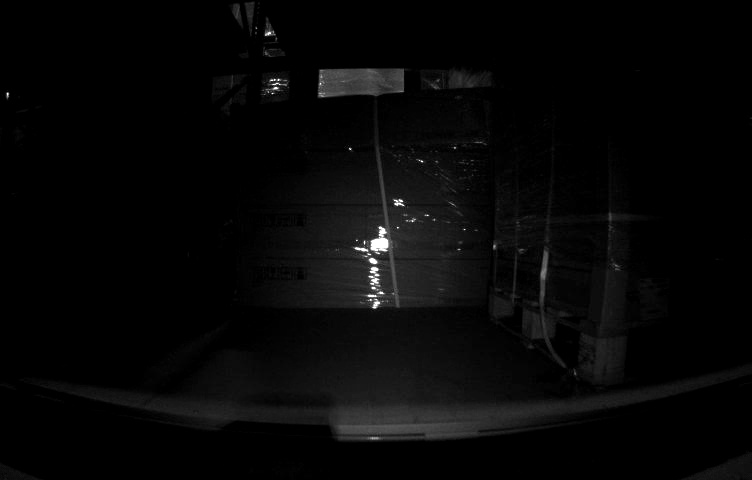True Barcode: (637, 276, 680, 318)
